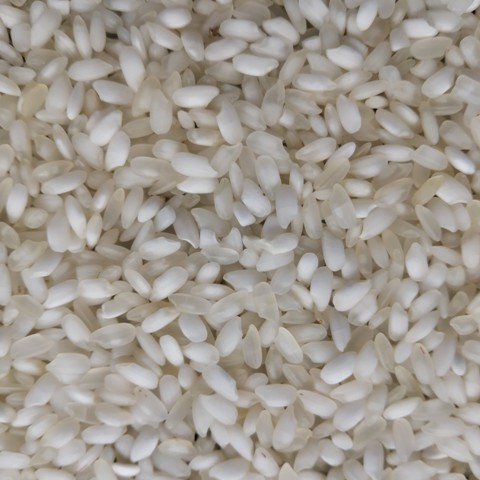idli rice_1: (25, 18, 389, 440)
